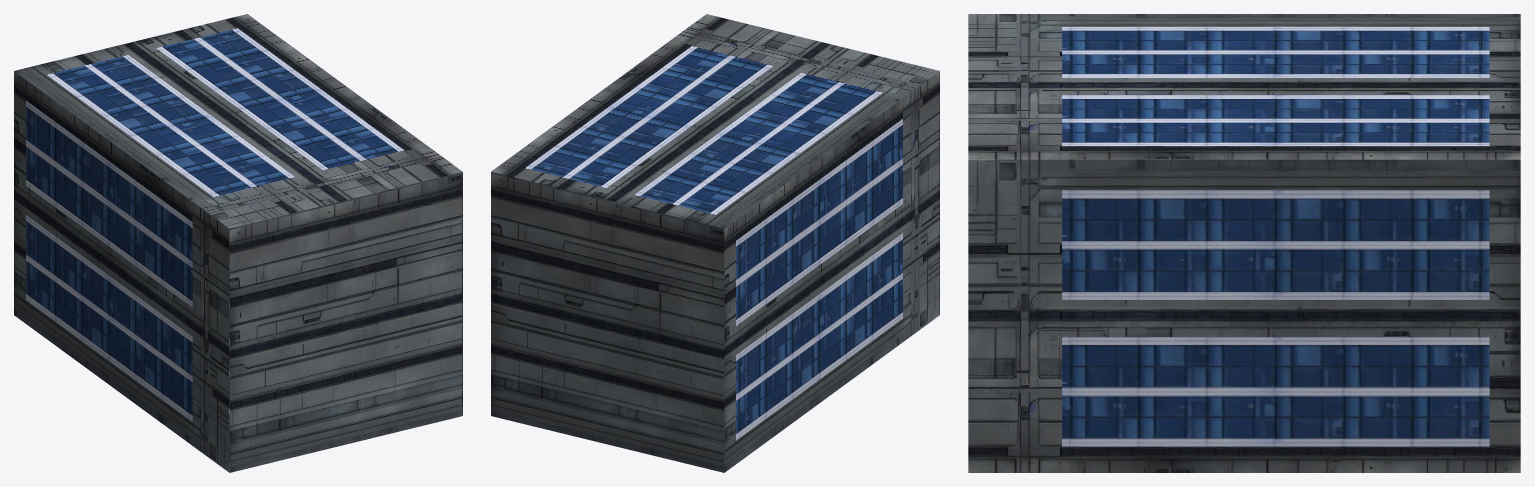
The model's file is Building_B.fbx.
3 views of the same model, side by side, from view 1: azimuth 30°, elevation 25°; view 2: azimuth 150°, elevation 25°; view 3: azimuth 270°, elevation 25° (orthographic). The views are drawn at different scales.
Parts seen in each view (by area): view 1: Tower B; view 2: Tower B; view 3: Tower B.
Boxes of the visible parts, x1,y1,x2,y2 form: Tower B: (14, 14, 462, 472); Tower B: (491, 14, 939, 472); Tower B: (968, 14, 1520, 472).
Bounding box in the file's own units: 800 × 800 × 1280.
